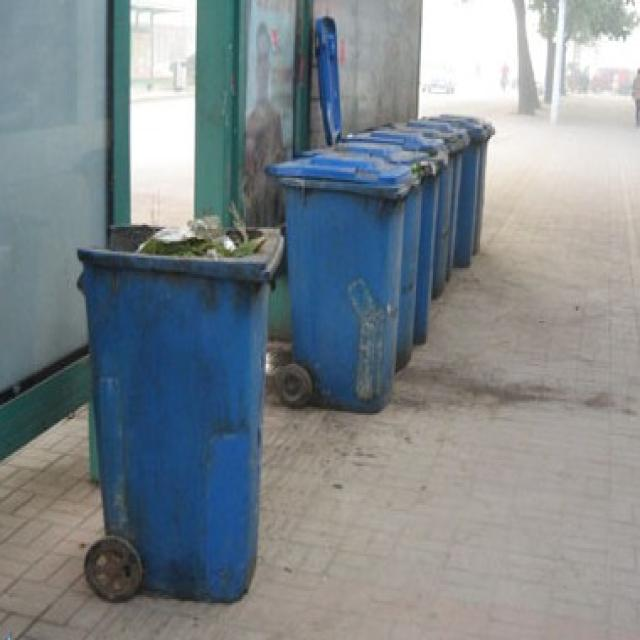garbage_bin: (78, 225, 284, 601), (264, 151, 414, 411)
